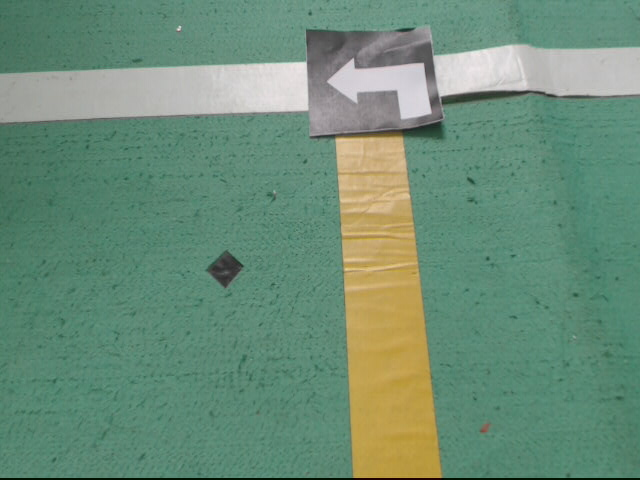left: (306, 27, 445, 140)
